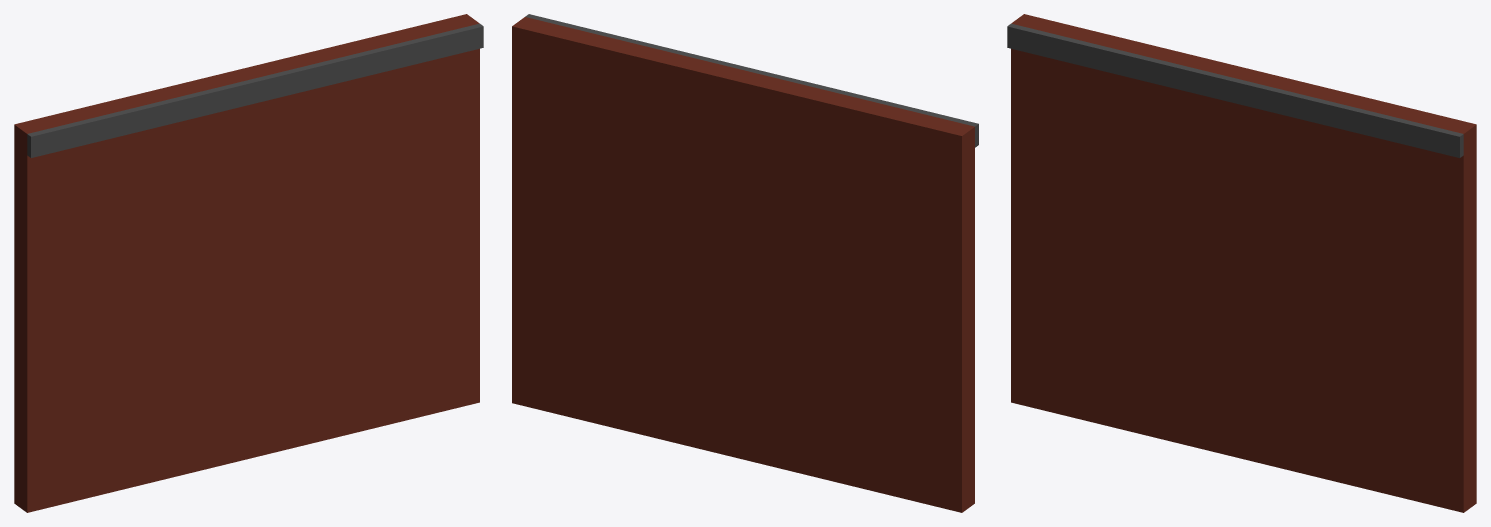
The model's file is KIT_Wall_4m_Plain_Brick.glb.
3 views of the same model, side by side, from view 1: azimuth 30°, elevation 25°; view 2: azimuth 150°, elevation 25°; view 3: azimuth 330°, elevation 25° (orthographic).
Parts seen in each view (by area): view 1: KIT_Wall_4m_Plain_Brick; view 2: KIT_Wall_4m_Plain_Brick; view 3: KIT_Wall_4m_Plain_Brick.
Boxes of the visible parts, x1=… form: KIT_Wall_4m_Plain_Brick: x1=14, y1=14, x2=483, y2=512; KIT_Wall_4m_Plain_Brick: x1=512, y1=14, x2=978, y2=512; KIT_Wall_4m_Plain_Brick: x1=1007, y1=14, x2=1476, y2=512.
Bounding box in the file's own units: 4 × 3.2 × 0.26.
